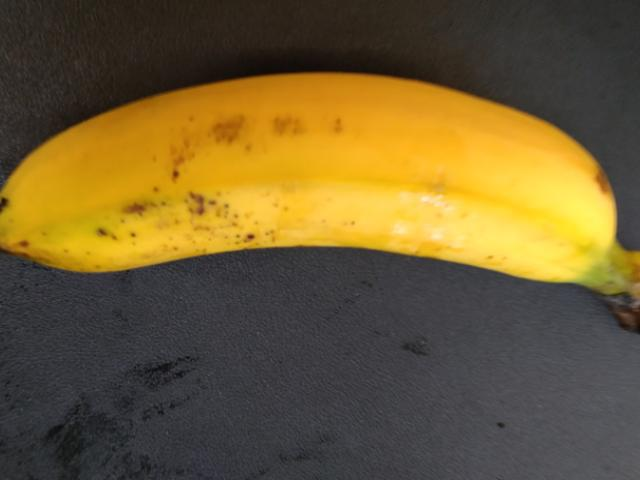ripe: (13, 36, 639, 323)
